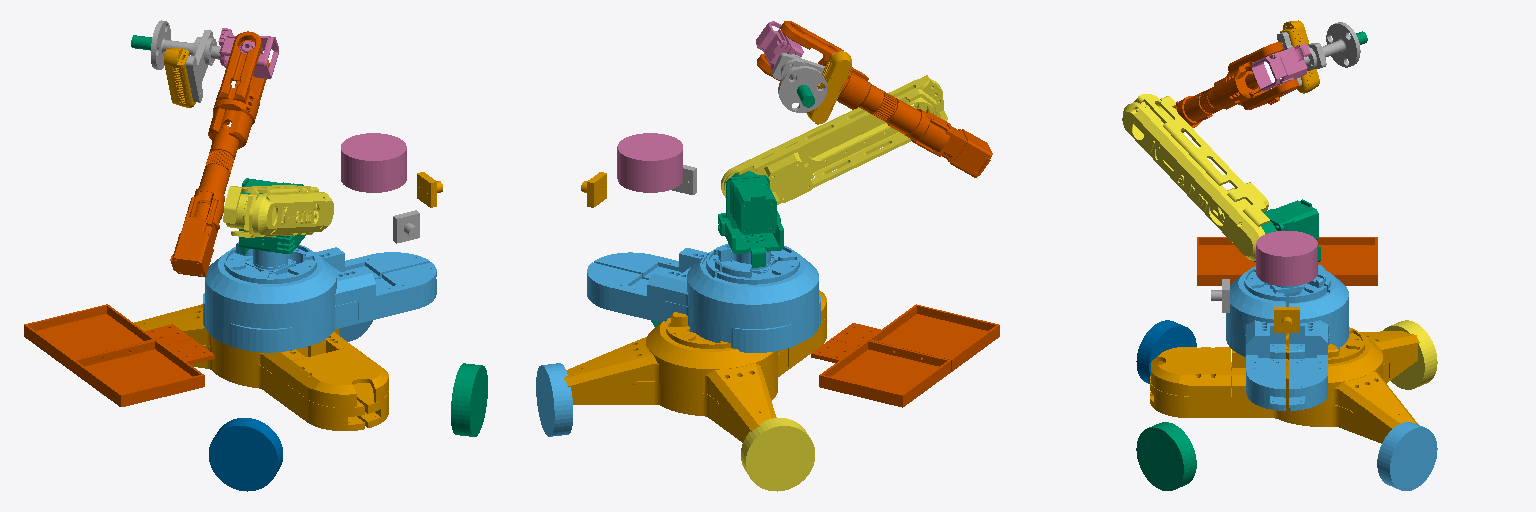
robot.urdf — robot:
<?xml version="1.0" encoding="UTF-8"?>
<robot name="robot">
  <link name="base_link">
    <inertial>
      <mass value="100.0"/>
      <origin xyz="0.01338841 0.00674118 0.04964671" rpy="0 0 0"/>
      <inertia ixx="1.5" ixy="0.00012411" ixz="-0.00815352" iyy="1.2" iyz="-0.00165066" izz="50.0"/>
    </inertial>
    <visual>
      <origin xyz="0 0 0" rpy="0 0 0"/>
      <geometry>
        <mesh filename="package://mm_description/meshes/base_link.stl"/>
      </geometry>
    </visual>
    <collision>
      <origin xyz="0 0 0" rpy="0 0 0"/>
      <geometry>
        <mesh filename="package://mm_description/meshes/base_link.stl"/>
      </geometry>
    </collision>
  </link>
  <link name="Link_6">
    <inertial>
      <mass value="0.24117304"/>
      <origin xyz="0 0 -0.01099999" rpy="0 0 0"/>
      <inertia ixx="0.00011077" ixy="0" ixz="0" iyy="0.00011077" iyz="0" izz="0.00020208"/>
    </inertial>
    <visual>
      <origin xyz="0 0 0" rpy="0 0 0"/>
      <geometry>
        <mesh filename="package://mm_description/meshes/Link_6.stl"/>
      </geometry>
    </visual>
    <collision>
      <origin xyz="0 0 0" rpy="0 0 0"/>
      <geometry>
        <mesh filename="package://mm_description/meshes/Link_6.stl"/>
      </geometry>
    </collision>
  </link>
  <link name="Link_7">
    <inertial>
      <mass value="0.24117308"/>
      <origin xyz="0 0 -0.011" rpy="0 0 0"/>
      <inertia ixx="0.00011077" ixy="0" ixz="0" iyy="0.00011077" iyz="0" izz="0.00020208"/>
    </inertial>
    <visual>
      <origin xyz="0 0 0" rpy="0 0 0"/>
      <geometry>
        <mesh filename="package://mm_description/meshes/Link_7.stl"/>
      </geometry>
    </visual>
    <collision>
      <origin xyz="0 0 0" rpy="0 0 0"/>
      <geometry>
        <mesh filename="package://mm_description/meshes/Link_7.stl"/>
      </geometry>
    </collision>
  </link>
  <link name="Link_9">
    <inertial>
      <mass value="0.24117304"/>
      <origin xyz="-1e-8 0 -0.01100001" rpy="0 0 0"/>
      <inertia ixx="0.00011077" ixy="0" ixz="0" iyy="0.00011077" iyz="0" izz="0.00020208"/>
    </inertial>
    <visual>
      <origin xyz="0 0 0" rpy="0 0 0"/>
      <geometry>
        <mesh filename="package://mm_description/meshes/Link_9.stl"/>
      </geometry>
    </visual>
    <collision>
      <origin xyz="0 0 0" rpy="0 0 0"/>
      <geometry>
        <mesh filename="package://mm_description/meshes/Link_9.stl"/>
      </geometry>
    </collision>
  </link>
  <link name="Link_10">
    <inertial>
      <mass value="0.24117303"/>
      <origin xyz="0 0 -0.01100001" rpy="0 0 0"/>
      <inertia ixx="0.00011077" ixy="0" ixz="0" iyy="0.00011077" iyz="0" izz="0.00020208"/>
    </inertial>
    <visual>
      <origin xyz="0 0 0" rpy="0 0 0"/>
      <geometry>
        <mesh filename="package://mm_description/meshes/Link_10.stl"/>
      </geometry>
    </visual>
    <collision>
      <origin xyz="0 0 0" rpy="0 0 0"/>
      <geometry>
        <mesh filename="package://mm_description/meshes/Link_10.stl"/>
      </geometry>
    </collision>
  </link>
  <link name="Link_11">
    <inertial>
      <mass value="0.3521019"/>
      <origin xyz="-0.00136474 0.00010224 -0.04449762" rpy="0 0 0"/>
      <inertia ixx="0.00194225" ixy="1.4e-7" ixz="0.0000042" iyy="0.0006218" iyz="-0.00000826" izz="0.00132768"/>
    </inertial>
    <visual>
      <origin xyz="0 0 0" rpy="0 0 0"/>
      <geometry>
        <mesh filename="package://mm_description/meshes/Link_11.stl"/>
      </geometry>
    </visual>
    <collision>
      <origin xyz="0 0 0" rpy="0 0 0"/>
      <geometry>
        <mesh filename="package://mm_description/meshes/Link_11.stl"/>
      </geometry>
    </collision>
  </link>
  <link name="Link_12">
    <inertial>
      <mass value="0.36623976"/>
      <origin xyz="0 0 -0.02002404" rpy="0 0 0"/>
      <inertia ixx="0.00017708" ixy="0" ixz="0" iyy="0.00017708" iyz="0" izz="0.00025661"/>
    </inertial>
    <visual>
      <origin xyz="0 0 0" rpy="0 0 0"/>
      <geometry>
        <mesh filename="package://mm_description/meshes/Link_12.stl"/>
      </geometry>
    </visual>
    <collision>
      <origin xyz="0 0 0" rpy="0 0 0"/>
      <geometry>
        <mesh filename="package://mm_description/meshes/Link_12.stl"/>
      </geometry>
    </collision>
  </link>
  <link name="Link_13">
    <inertial>
      <mass value="0.02152631"/>
      <origin xyz="0 0 -0.0026636" rpy="0 0 0"/>
      <inertia ixx="0.00000201" ixy="0" ixz="0" iyy="0.00000201" iyz="0" izz="0.00000295"/>
    </inertial>
    <visual>
      <origin xyz="0 0 0" rpy="0 0 0"/>
      <geometry>
        <mesh filename="package://mm_description/meshes/Link_13.stl"/>
      </geometry>
    </visual>
    <collision>
      <origin xyz="0 0 0" rpy="0 0 0"/>
      <geometry>
        <mesh filename="package://mm_description/meshes/Link_13.stl"/>
      </geometry>
    </collision>
  </link>
  <link name="Link_14">
    <inertial>
      <mass value="0.02152631"/>
      <origin xyz="0 0 -0.00266361" rpy="0 0 0"/>
      <inertia ixx="0.00000201" ixy="0" ixz="0" iyy="0.00000201" iyz="0" izz="0.00000295"/>
    </inertial>
    <visual>
      <origin xyz="0 0 0" rpy="0 0 0"/>
      <geometry>
        <mesh filename="package://mm_description/meshes/Link_14.stl"/>
      </geometry>
    </visual>
    <collision>
      <origin xyz="0 0 0" rpy="0 0 0"/>
      <geometry>
        <mesh filename="package://mm_description/meshes/Link_14.stl"/>
      </geometry>
    </collision>
  </link>
  <link name="Link_20">
    <inertial>
      <mass value="2.95010675"/>
      <origin xyz="0.00046155 -0.02860543 0.0288884" rpy="0 0 0"/>
      <inertia ixx="0.01492576" ixy="-0.00003831" ixz="-0.00004167" iyy="0.00574606" iyz="-0.00139509" izz="0.01787809"/>
    </inertial>
    <visual>
      <origin xyz="0 0 0" rpy="0 0 0"/>
      <geometry>
        <mesh filename="package://mm_description/meshes/Link_20.stl"/>
      </geometry>
    </visual>
    <collision>
      <origin xyz="0 0 0" rpy="0 0 0"/>
      <geometry>
        <mesh filename="package://mm_description/meshes/Link_20.stl"/>
      </geometry>
    </collision>
  </link>
  <link name="Link_21">
    <inertial>
      <mass value="0.28934686"/>
      <origin xyz="-0.00023432 -0.00134962 0.03670981" rpy="0 0 0"/>
      <inertia ixx="0.00024118" ixy="1.6e-7" ixz="-9e-7" iyy="0.00018977" iyz="-0.00001324" izz="0.0001893"/>
    </inertial>
    <visual>
      <origin xyz="0 0 0" rpy="0 0 0"/>
      <geometry>
        <mesh filename="package://mm_description/meshes/Link_21.stl"/>
      </geometry>
    </visual>
    <collision>
      <origin xyz="0 0 0" rpy="0 0 0"/>
      <geometry>
        <mesh filename="package://mm_description/meshes/Link_21.stl"/>
      </geometry>
    </collision>
  </link>
  <link name="Link_22">
    <inertial>
      <mass value="0.4182741"/>
      <origin xyz="-0.000077 0.10527397 0.00749068" rpy="0 0 0"/>
      <inertia ixx="0.00251557" ixy="0.00000398" ixz="0.000001" iyy="0.00021564" iyz="0.00009753" izz="0.00253221"/>
    </inertial>
    <visual>
      <origin xyz="0 0 0" rpy="0 0 0"/>
      <geometry>
        <mesh filename="package://mm_description/meshes/Link_22.stl"/>
      </geometry>
    </visual>
    <collision>
      <origin xyz="0 0 0" rpy="0 0 0"/>
      <geometry>
        <mesh filename="package://mm_description/meshes/Link_22.stl"/>
      </geometry>
    </collision>
  </link>
  <link name="Link_23">
    <inertial>
      <mass value="0.3397771"/>
      <origin xyz="0.01315674 -0.027972 -0.03680874" rpy="0 0 0"/>
      <inertia ixx="0.00027686" ixy="-0.00005481" ixz="0.00000244" iyy="0.00026916" iyz="-0.0000201" izz="0.00040556"/>
    </inertial>
    <visual>
      <origin xyz="0 0 0" rpy="0 0 0"/>
      <geometry>
        <mesh filename="package://mm_description/meshes/Link_23.stl"/>
      </geometry>
    </visual>
    <collision>
      <origin xyz="0 0 0" rpy="0 0 0"/>
      <geometry>
        <mesh filename="package://mm_description/meshes/Link_23.stl"/>
      </geometry>
    </collision>
  </link>
  <link name="Link_24">
    <inertial>
      <mass value="0.41488607"/>
      <origin xyz="-0.00007694 -0.00001004 0.01166514" rpy="0 0 0"/>
      <inertia ixx="0.00337314" ixy="-3e-7" ixz="-0.00001687" iyy="0.00340699" iyz="4.1e-7" izz="0.000143"/>
    </inertial>
    <visual>
      <origin xyz="0 0 0" rpy="0 0 0"/>
      <geometry>
        <mesh filename="package://mm_description/meshes/Link_24.stl"/>
      </geometry>
    </visual>
    <collision>
      <origin xyz="0 0 0" rpy="0 0 0"/>
      <geometry>
        <mesh filename="package://mm_description/meshes/Link_24.stl"/>
      </geometry>
    </collision>
  </link>
  <link name="Link_25">
    <inertial>
      <mass value="0.05543991"/>
      <origin xyz="-0.00490389 -0.00677278 -0.02578832" rpy="0 0 0"/>
      <inertia ixx="0.00002782" ixy="-0.00000232" ixz="6.9e-7" iyy="0.00001842" iyz="0.00000124" izz="0.00002306"/>
    </inertial>
    <visual>
      <origin xyz="0 0 0" rpy="0 0 0"/>
      <geometry>
        <mesh filename="package://mm_description/meshes/Link_25.stl"/>
      </geometry>
    </visual>
    <collision>
      <origin xyz="0 0 0" rpy="0 0 0"/>
      <geometry>
        <mesh filename="package://mm_description/meshes/Link_25.stl"/>
      </geometry>
    </collision>
  </link>
  <link name="Link_29">
    <inertial>
      <mass value="0.10436678"/>
      <origin xyz="0.00852278 -0.00000335 -0.02635188" rpy="0 0 0"/>
      <inertia ixx="0.00007648" ixy="0" ixz="-0.00001543" iyy="0.00009924" iyz="1e-8" izz="0.00005198"/>
    </inertial>
    <visual>
      <origin xyz="0 0 0" rpy="0 0 0"/>
      <geometry>
        <mesh filename="package://mm_description/meshes/Link_29.stl"/>
      </geometry>
    </visual>
    <collision>
      <origin xyz="0 0 0" rpy="0 0 0"/>
      <geometry>
        <mesh filename="package://mm_description/meshes/Link_29.stl"/>
      </geometry>
    </collision>
  </link>
  <link name="Link_30">
    <inertial>
      <mass value="0.09510497"/>
      <origin xyz="0.00632876 -0.0124129 0.00615617" rpy="0 0 0"/>
      <inertia ixx="0.00005724" ixy="1e-8" ixz="-8.4e-7" iyy="0.00005786" iyz="0" izz="0.00000861"/>
    </inertial>
    <visual>
      <origin xyz="0 0 0" rpy="0 0 0"/>
      <geometry>
        <mesh filename="package://mm_description/meshes/Link_30.stl"/>
      </geometry>
    </visual>
    <collision>
      <origin xyz="0 0 0" rpy="0 0 0"/>
      <geometry>
        <mesh filename="package://mm_description/meshes/Link_30.stl"/>
      </geometry>
    </collision>
  </link>
  <!-- 全向轮: planar_move 整体驱动底盘, 轮子不靠转动出力(mu=0); 改 fixed 使 MoveIt 不把其当可动关节(否则 move_group 等不到轮子 joint_states) -->
  <joint name="Joint_1" type="fixed">
    <parent link="base_link"/>
    <child link="Link_6"/>
    <origin xyz="0.13876701 0.13896794 -0.00648044" rpy="1.57040288 0 -0.78540196"/>
  </joint>
  <joint name="Joint_2" type="fixed">
    <parent link="base_link"/>
    <child link="Link_7"/>
    <origin xyz="0.13876599 -0.13892873 -0.00659893" rpy="1.56480903 0 -2.35618029"/>
  </joint>
  <joint name="Joint_3" type="fixed">
    <parent link="base_link"/>
    <child link="Link_9"/>
    <origin xyz="-0.13868266 0.13899535 -0.00659888" rpy="1.56481236 0 0.78541237"/>
  </joint>
  <joint name="Joint_4" type="fixed">
    <parent link="base_link"/>
    <child link="Link_10"/>
    <origin xyz="-0.13868369 -0.13890131 -0.0064805" rpy="1.57039955 0 2.3561907"/>
  </joint>
  <joint name="Joint_5" type="fixed">
    <parent link="base_link"/>
    <child link="Link_11"/>
    <origin xyz="-0.17927565 0.00011054 0.07579956" rpy="0 -1.57079633 3.14158898"/>
    <axis xyz="0 0 1"/>
  </joint>
  <joint name="Joint_6" type="fixed">
    <parent link="base_link"/>
    <child link="Link_12"/>
    <origin xyz="0.10568947 -0.00001261 0.22079956" rpy="-3.14159265 0 -0.00000367"/>
    <axis xyz="0 0 1"/>
  </joint>
  <!-- ===== laser_link: 雷达的**测量帧**, 与 Link_12(mesh 帧) 刻意分开 =====
       2026-08-08 真机实测定案 (三次挡测, 每次 100 帧取最小):
         挡车头 (base 0°)   -> scan 报 180°
         挡车左 (base +90°) -> scan 报 -90°
       唯一解 theta_scan = theta_base + 180, 即**纯旋转 180°, 无镜像**
       (镜像假设预测挡左出现在 +90°, 实测 -90°, 已排除)。
       物理含义: 雷达 +Z 朝上没错, 但整个装置绕竖轴转了 180° 装, 它的 0° 指向车尾。

       ⚠️ 为什么不直接改 Joint_6 的 rpy, 而要新增一个帧:
       Link_12.stl 包围盒 Z: -0.0400 ~ 0.0000 —— mesh 主体画在自己坐标系的 Z 负半侧,
       故 Joint_6 的 roll=-pi **是 mesh 需要的**(把朝下的模型翻上来), 不是笔误。
       若改成 yaw=pi: scan 对了, 但 mesh 从 z=0.2208 向下长到 0.1808 **陷进底盘** ——
       而 Link_12 带 <collision> 用同一个 mesh, MoveIt 拿它做自碰撞检查,
       雷达碰撞体位置错了会导致臂扫过雷达真实位置时**不报碰撞**, 这是安全问题。
       一个帧满足不了 mesh(需 Rx(pi)) 与 scan(需 Rz(pi)) 两个需求, 故拆开。

       xyz 沿用 Joint_6 的安装原点(雷达在底盘上的位置没变, 只是朝向转了)。
       严格说光学中心在 mesh 中轴上、比安装面高约 2cm, 但对 2D 导航只有 x/y 进投影,
       z 差远小于建图分辨率(5cm), 不折腾。
       ⚠️ 驱动的 frame_id 必须指 laser_link 而非 Link_12, 仿真侧 sensor 同理 ——
       否则 sim 自洽而 real 错, 这个 bug 正是这样藏了两个月。 -->
  <link name="laser_link"/>
  <joint name="Joint_laser" type="fixed">
    <parent link="base_link"/>
    <child link="laser_link"/>
    <origin xyz="0.10568947 -0.00001261 0.22079956" rpy="0 0 3.14159265"/>
  </joint>
  <joint name="Joint_7" type="fixed">
    <parent link="base_link"/>
    <child link="Link_13"/>
    <origin xyz="0.10568918 -0.07903606 0.19079956" rpy="0 -1.57079633 1.57079265"/>
    <axis xyz="0 0 1"/>
  </joint>
  <joint name="Joint_8" type="fixed">
    <parent link="base_link"/>
    <child link="Link_14"/>
    <origin xyz="0.18018947 -0.00001288 0.19079956" rpy="0 -1.57079633 3.14158898"/>
    <axis xyz="0 0 1"/>
  </joint>
  <joint name="Joint_9" type="fixed">
    <parent link="base_link"/>
    <child link="Link_20"/>
    <origin xyz="-0.02923852 0.00059357 0.07479956" rpy="0 0 1.57079265"/>
    <axis xyz="0 0 1"/>
  </joint>
  <joint name="Joint_11" type="revolute">
    <parent link="Link_20"/>
    <child link="Link_21"/>
    <origin xyz="0 0 0.0974" rpy="0 0 -0.84609572"/>
    <axis xyz="0 0 1"/>
    <limit lower="0" upper="4.7469066" effort="10" velocity="1"/>
  </joint>
  <joint name="Joint_12" type="revolute">
    <parent link="Link_21"/>
    <child link="Link_22"/>
    <origin xyz="0 -0.0514 0.0473" rpy="1.57079633 1.16937060 -3.14159265"/>
    <axis xyz="0 0 1"/>
    <limit lower="0" upper="2.740" effort="10" velocity="1"/>
  </joint>
  <joint name="Joint_13" type="revolute">
    <parent link="Link_22"/>
    <child link="Link_23"/>
    <origin xyz="0 0.21250002 0.0224" rpy="3.14159265 0 -2.58308729"/>
    <axis xyz="0 0 1"/>
    <limit lower="0" upper="2.304" effort="10" velocity="1"/>
  </joint>
  <joint name="Joint_14" type="revolute">
    <parent link="Link_23"/>
    <child link="Link_24"/>
    <origin xyz="0.06778965 0 -0.04020834" rpy="1.56206849 0 -1.57079633"/>
    <axis xyz="0 0 1"/>
    <limit lower="0" upper="3.142" effort="10" velocity="1"/>
  </joint>
  <joint name="Joint_15" type="revolute">
    <parent link="Link_24"/>
    <child link="Link_25"/>
    <origin xyz="-0.02519984 0 -0.13160004" rpy="0 -1.57079633 0"/>
    <axis xyz="0 0 -1"/>
    <limit lower="-1.571" upper="1.571" effort="10" velocity="1"/>
  </joint>
  <joint name="Joint_16" type="revolute">
    <parent link="Link_25"/>
    <child link="Link_29"/>
    <origin xyz="5e-8 -0.046 -0.0251" rpy="-1.57079633 -0.18326076 0"/>
    <axis xyz="0 0 -1"/>
    <limit lower="0" upper="5.55014702" effort="10" velocity="1"/>
  </joint>
  <joint name="Joint_17" type="fixed">
    <parent link="Link_29"/>
    <child link="Link_30"/>
    <origin xyz="0.05537897 0.00725 -0.01913" rpy="0 1.57079633 -1.57079633"/>
    <axis xyz="0 0 1"/>
  </joint>
  <!-- 吸盘工具: 沿 Link_29 -Z 伸出 3cm 圆柱(Ø1.5cm), ready 位即朝下. 气路靠 IO 控制(固件), 不建模关节 -->
  <link name="suction_link">
    <inertial>
      <mass value="0.02"/>
      <origin xyz="0 0 -0.08" rpy="0 0 0"/>
      <inertia ixx="1.78e-6" ixy="0" ixz="0" iyy="1.78e-6" iyz="0" izz="5.6e-7"/>
    </inertial>
    <visual>
      <origin xyz="0 0 -0.08" rpy="0 0 0"/>
      <geometry>
        <cylinder length="0.03" radius="0.0075"/>
      </geometry>
    </visual>
    <collision>
      <origin xyz="0 0 -0.08" rpy="0 0 0"/>
      <geometry>
        <cylinder length="0.03" radius="0.0075"/>
      </geometry>
    </collision>
  </link>
  <joint name="Joint_suction" type="fixed">
    <parent link="Link_29"/>
    <child link="suction_link"/>
    <origin xyz="0 0 0" rpy="0 0 0"/>
  </joint>
  <!-- suction_tip: 吸盘接触面(TCP), 圆柱末端面, Link_29 -Z 方向 9.5cm 处(腕部本体末端 6.5cm + 吸盘 3cm) -->
  <link name="suction_tip"/>
  <joint name="Joint_suction_tip" type="fixed">
    <parent link="suction_link"/>
    <child link="suction_tip"/>
    <origin xyz="0 0 -0.095" rpy="0 0 0"/>
  </joint>
</robot>

--- Facts derived from the render (not from the file) ---
Views: 3 orthographic renders of the robot side by side, from view 1: azimuth 30°, elevation 25°; view 2: azimuth 150°, elevation 25°; view 3: azimuth 270°, elevation 25°.
Model robot with 20 links and 19 joints (6 revolute, 13 fixed), rooted at base_link, posed every joint at zero.
Visible links, largest first — view 1: Link_20, base_link, Link_11, Link_24, Link_22, Link_10, Link_12, Link_7, Link_29, Link_30, Link_25, Link_21 (+2 smaller); view 2: Link_20, base_link, Link_11, Link_22, Link_24, Link_21, Link_9, Link_12, Link_6, Link_29, Link_30, Link_25 (+1 smaller); view 3: base_link, Link_20, Link_22, Link_11, Link_24, Link_6, Link_7, Link_12, Link_29, Link_10, Link_9, Link_25 (+3 smaller).
Boxes of the visible links, left/top/right/bottom form: Link_20: left=203, top=242, right=436, bottom=352; base_link: left=134, top=304, right=388, bottom=430; Link_11: left=24, top=304, right=214, bottom=406; Link_24: left=170, top=31, right=269, bottom=276; Link_22: left=223, top=185, right=333, bottom=237; Link_10: left=209, top=418, right=282, bottom=491; Link_12: left=341, top=133, right=406, bottom=192; Link_7: left=451, top=363, right=487, bottom=436; Link_29: left=151, top=20, right=220, bottom=102; Link_30: left=164, top=48, right=195, bottom=107; Link_25: left=218, top=28, right=278, bottom=78; Link_21: left=239, top=178, right=305, bottom=253; Link_20: left=587, top=244, right=820, bottom=352; base_link: left=564, top=290, right=826, bottom=442; Link_11: left=811, top=304, right=999, bottom=407; Link_22: left=721, top=75, right=947, bottom=204; Link_24: left=757, top=21, right=992, bottom=177; Link_21: left=718, top=171, right=783, bottom=267; Link_9: left=741, top=418, right=814, bottom=491; Link_12: left=617, top=133, right=682, bottom=192; Link_6: left=536, top=363, right=572, bottom=436; Link_29: left=772, top=53, right=834, bottom=112; Link_30: left=806, top=51, right=851, bottom=124; Link_25: left=756, top=21, right=803, bottom=69; base_link: left=1150, top=327, right=1419, bottom=443; Link_20: left=1226, top=265, right=1348, bottom=410; Link_22: left=1122, top=94, right=1269, bottom=260; Link_11: left=1197, top=237, right=1377, bottom=285; Link_24: left=1174, top=42, right=1298, bottom=132; Link_6: left=1377, top=422, right=1437, bottom=490; Link_7: left=1136, top=422, right=1196, bottom=490; Link_12: left=1256, top=231, right=1317, bottom=285; Link_29: left=1277, top=22, right=1360, bottom=86; Link_10: left=1136, top=320, right=1196, bottom=383; Link_9: left=1383, top=320, right=1437, bottom=389; Link_25: left=1251, top=43, right=1310, bottom=94.
Size in the robot's own frame: 0.4825 by 0.3841 by 0.4982 metres.
Meshes: 17 distinct files referenced, 16 mesh visuals loaded (16 binary STL); not drawn: 1 (reference not matched to a file when rendering).
